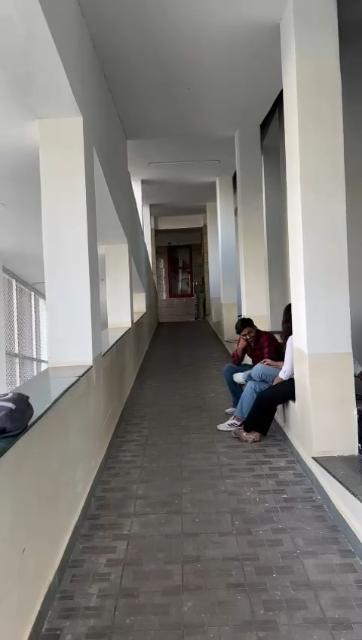floor: (35, 322, 362, 640)
moving-obj: (223, 304, 305, 460)
object: (0, 382, 38, 458)
wall: (2, 308, 163, 640), (293, 7, 345, 446), (8, 11, 86, 178), (42, 167, 92, 363), (236, 130, 270, 314), (88, 34, 132, 160), (215, 160, 235, 302), (108, 211, 130, 329), (112, 168, 140, 220)
